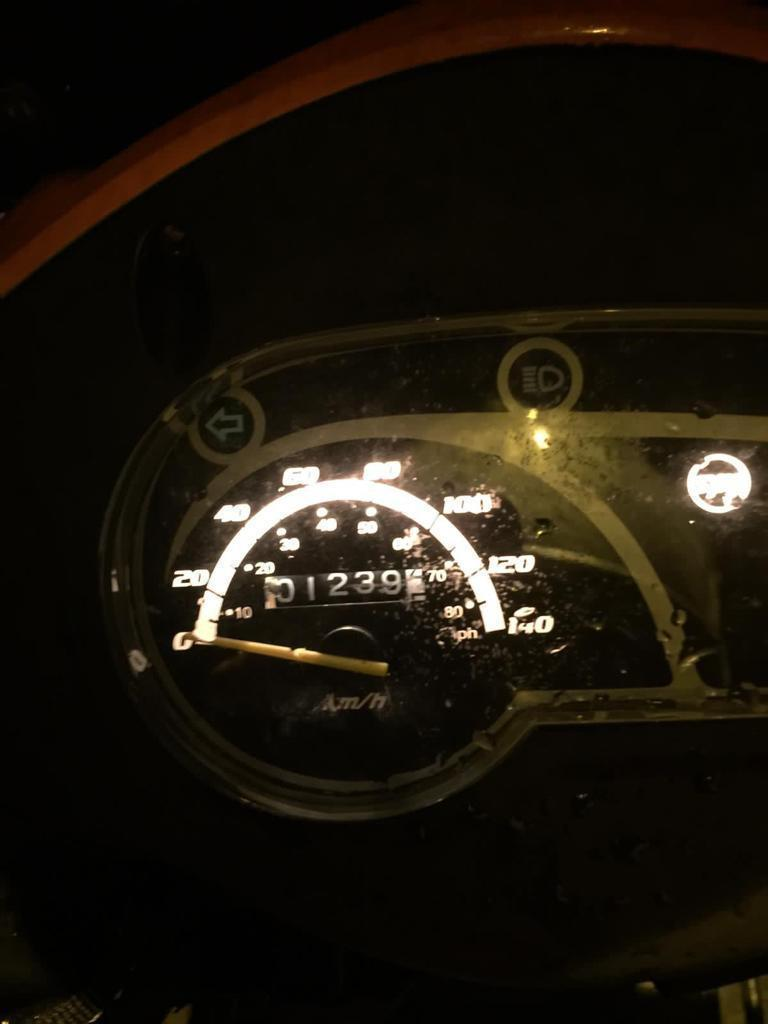0: (274, 577, 295, 604)
1: (302, 572, 318, 605)
2: (326, 570, 350, 597)
3: (354, 570, 375, 594)
4: (410, 568, 425, 583)
5: (410, 592, 426, 610)
9: (380, 569, 402, 595)
odometer: (262, 568, 428, 611)
